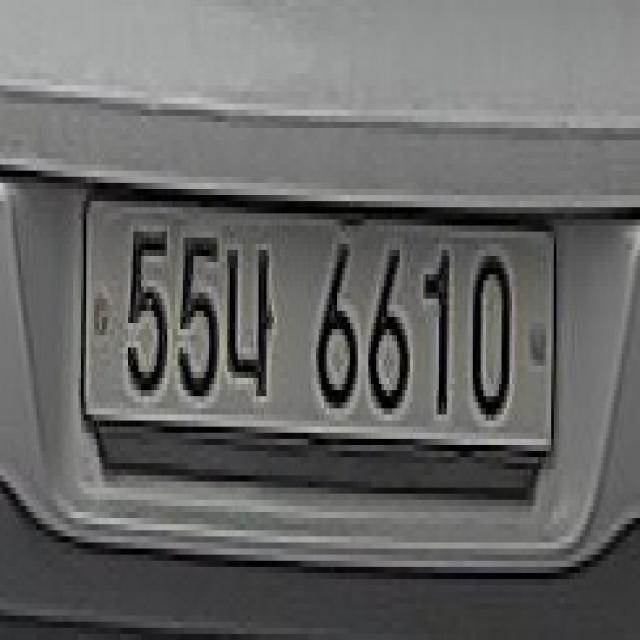0: (462, 236, 514, 424)
1: (418, 229, 460, 422)
5: (122, 216, 170, 397), (175, 220, 222, 401)
6: (310, 229, 362, 412), (364, 230, 414, 416)
license_plate: (72, 167, 564, 502)
na: (225, 222, 278, 408)
